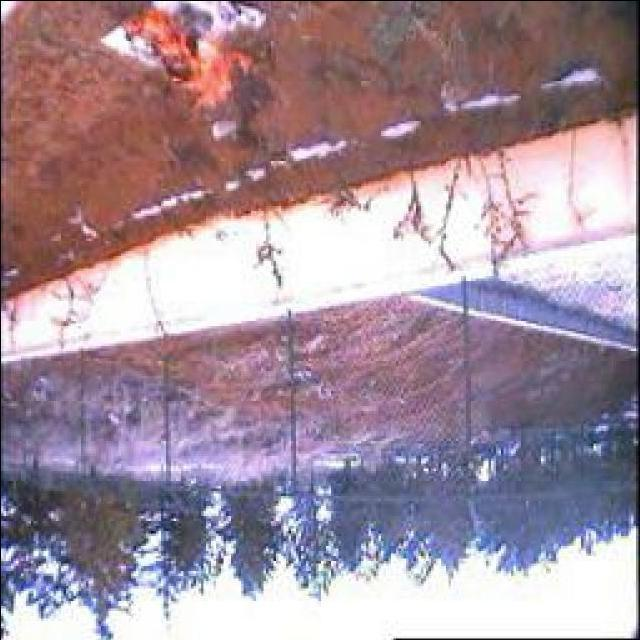Fire: (120, 4, 270, 116)
